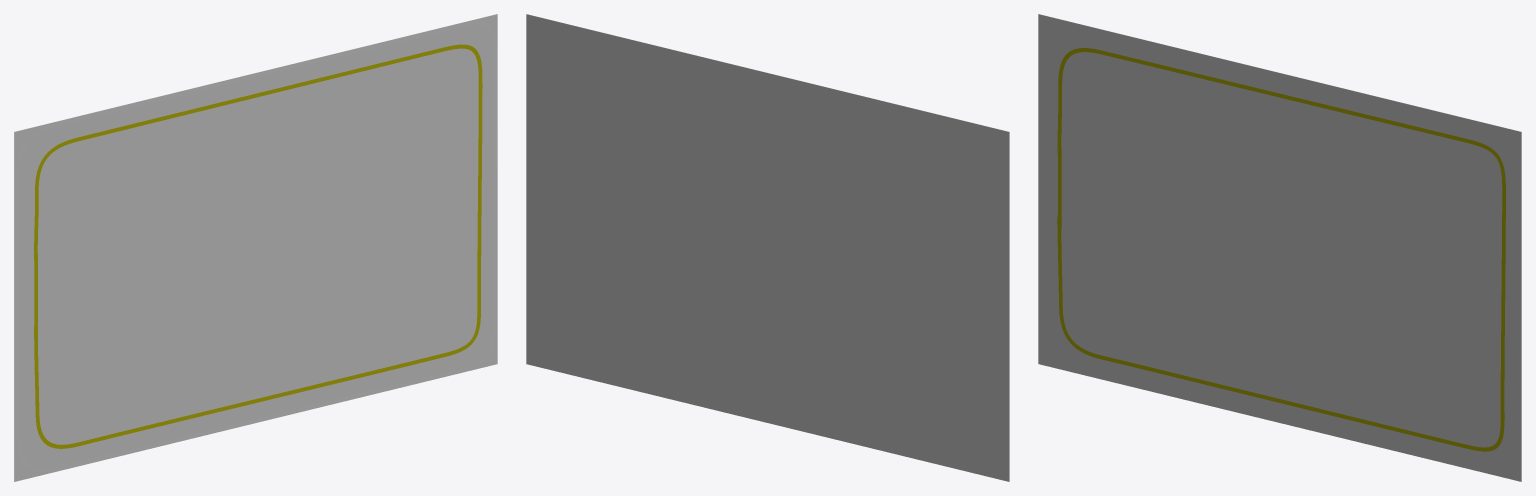
Rendered from chao.obj.
3 views of the same model, side by side, from view 1: azimuth 30°, elevation 25°; view 2: azimuth 150°, elevation 25°; view 3: azimuth 330°, elevation 25° (orthographic).
Parts seen in each view (by area): view 1: faixa_amarela_asfalto, faixa_amarela_branco, faixa_amarela_amarelo; view 2: faixa_amarela_asfalto; view 3: faixa_amarela_asfalto, faixa_amarela_branco, faixa_amarela_amarelo.
Boxes of the visible parts, x1=… form: faixa_amarela_asfalto: x1=14, y1=14, x2=497, y2=481; faixa_amarela_branco: x1=14, y1=21, x2=497, y2=472; faixa_amarela_amarelo: x1=34, y1=44, x2=482, y2=448; faixa_amarela_asfalto: x1=526, y1=14, x2=1009, y2=481; faixa_amarela_asfalto: x1=1038, y1=14, x2=1521, y2=481; faixa_amarela_branco: x1=1038, y1=24, x2=1520, y2=474; faixa_amarela_amarelo: x1=1057, y1=48, x2=1505, y2=451.
Size of the model in its own units: 13 by 9 by 0.021.
